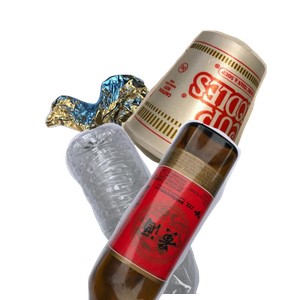glass: (85, 120, 300, 300)
metal: (42, 72, 239, 229)
plastic: (63, 120, 263, 300)
trash: (119, 28, 300, 207)
